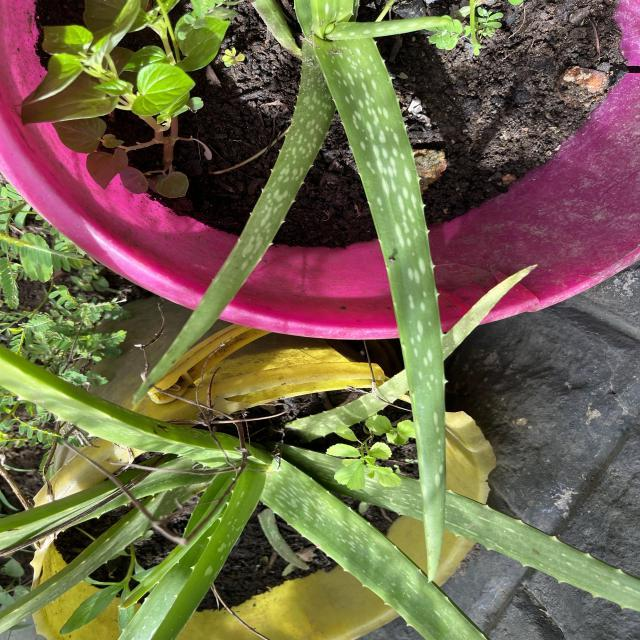Aloe vera: (313, 32, 453, 589)
